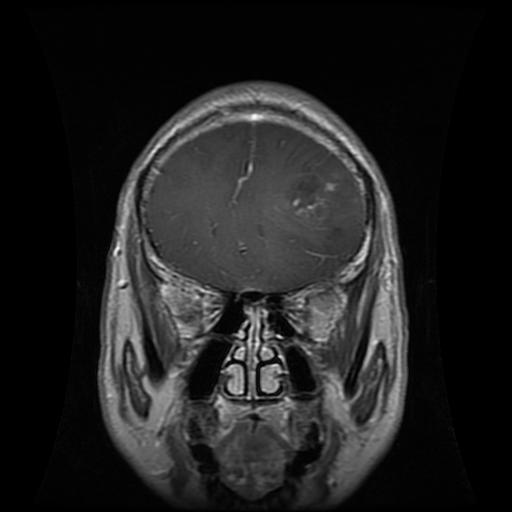Gliomia_tumour: (285, 165, 344, 223)
